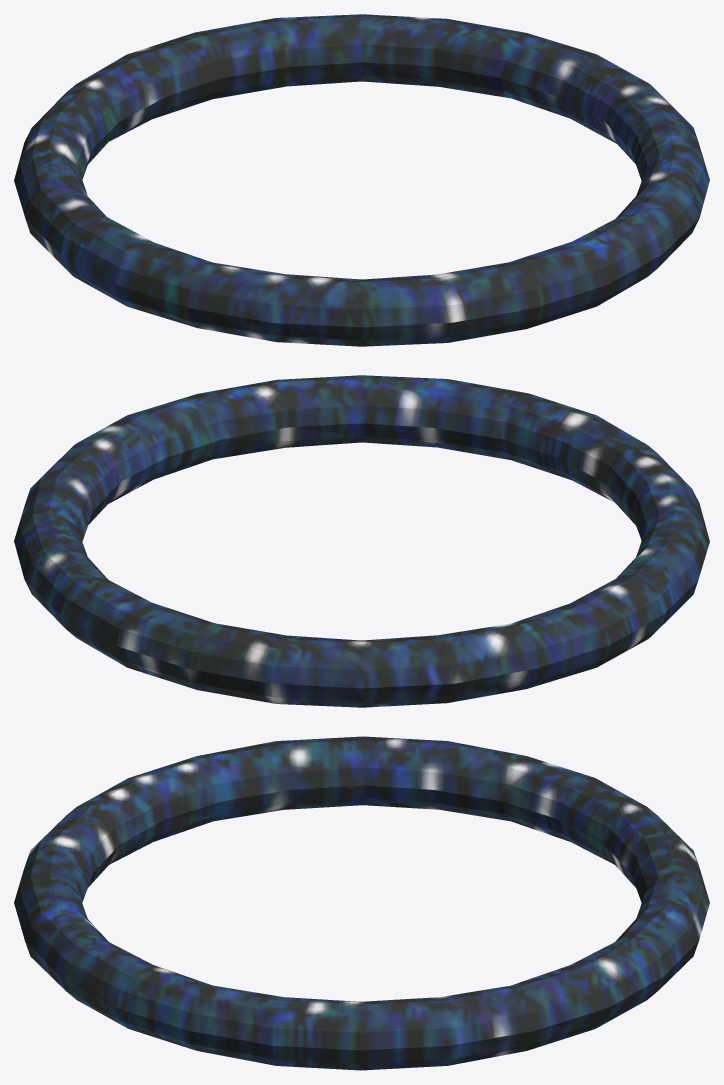
File: donut.glb
The picture shows the model from 3 angles, top to bottom: view 1: azimuth 30°, elevation 25°; view 2: azimuth 150°, elevation 25°; view 3: azimuth 270°, elevation 25°; orthographic projection.
Parts seen in each view (by area): view 1: donut; view 2: donut; view 3: donut.
Boxes of the visible parts, left/top/right/bottom form: donut: left=14, top=14, right=709, bottom=346; donut: left=14, top=375, right=709, bottom=707; donut: left=14, top=736, right=709, bottom=1070.
Bounding box in the file's own units: 193 × 18.93 × 193.
1 material, 1 textured.
